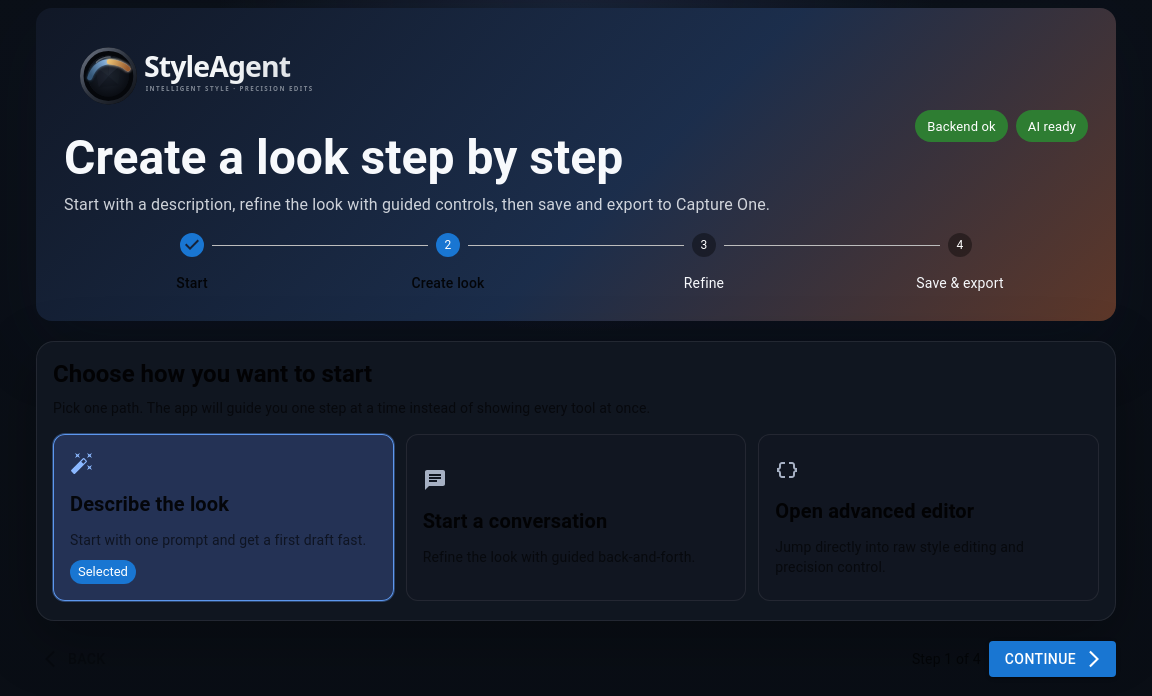
App integration › previews the exact AI prompt and selected examples
This screenshot has width=1152, height=696.
Click the button "Describe the look". click: {"x": 223, "y": 517}
box: [54, 435, 393, 600]
(page scrolled)
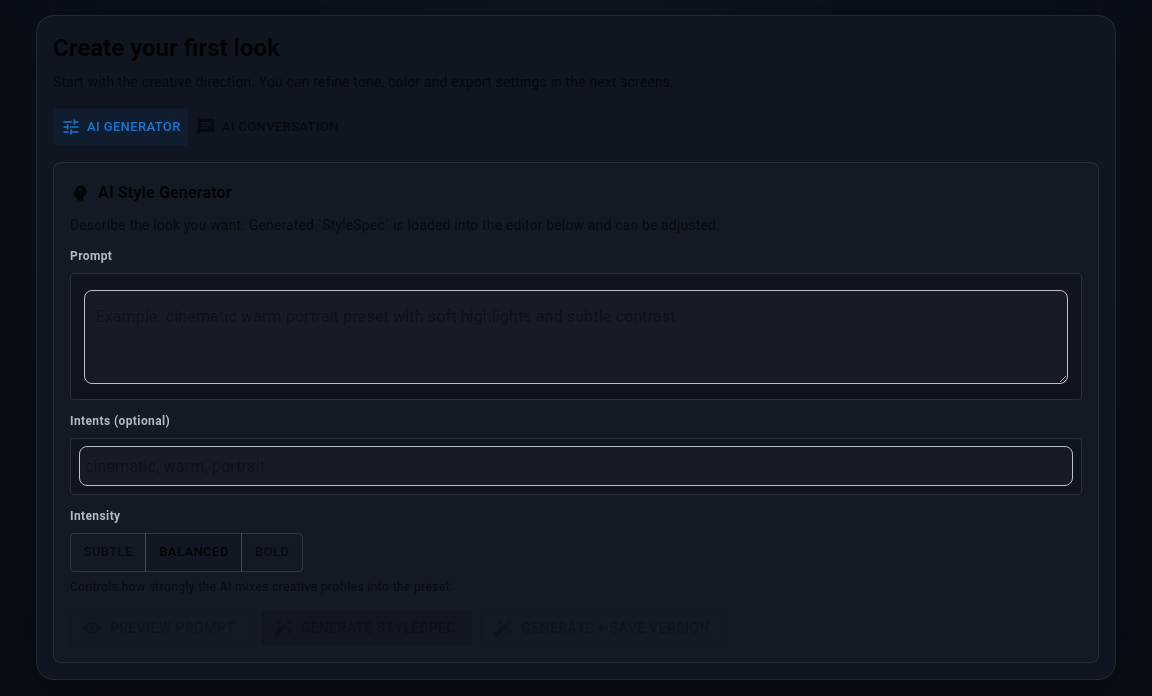
Type "tokyo night cinematic" into the text box named "Prompt". click: {"x": 576, "y": 337}
box: [84, 290, 1068, 384]
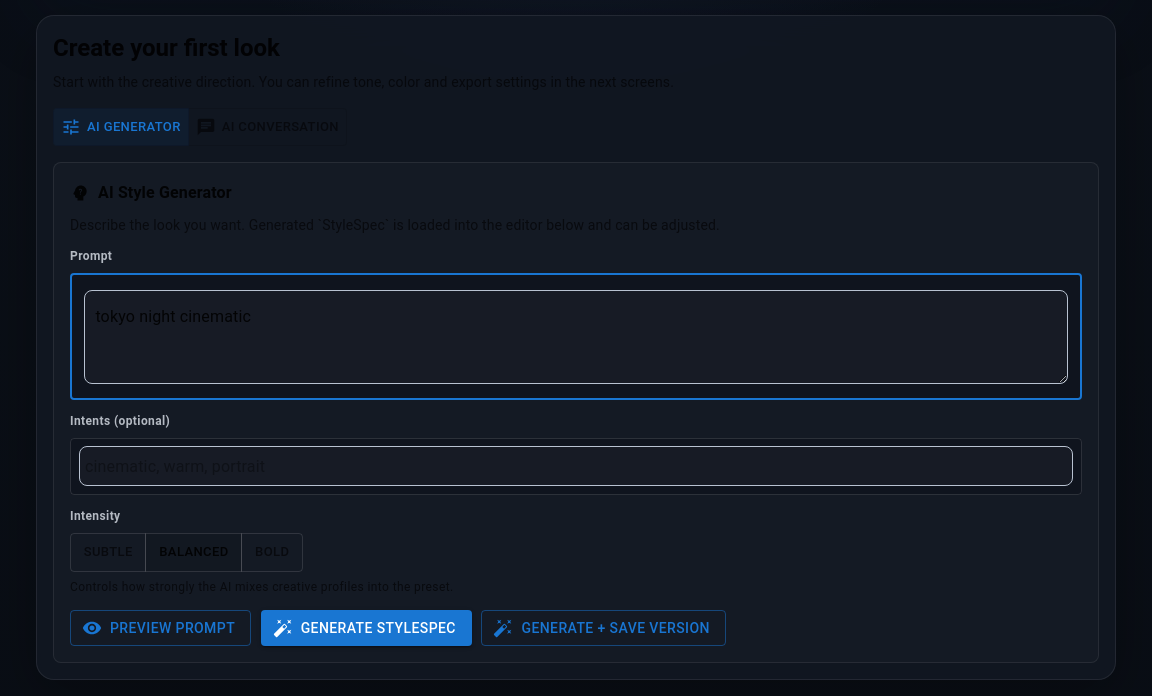
Click the button with aria-label "intensity-bold". click: {"x": 272, "y": 552}
box: [241, 533, 303, 572]
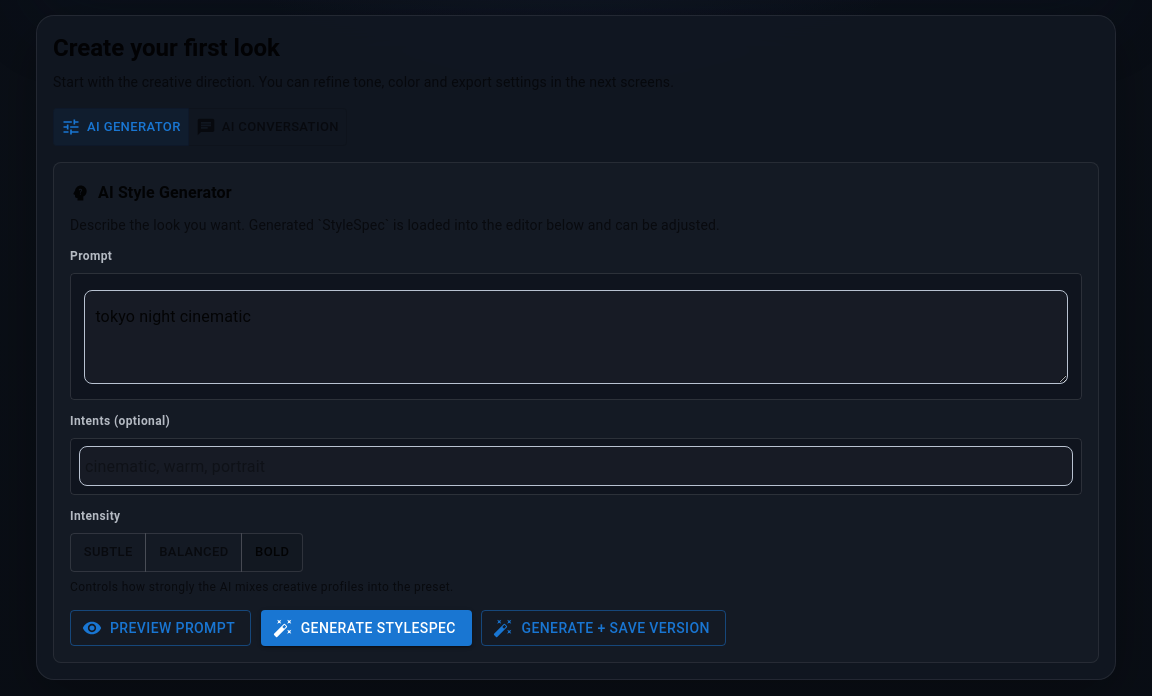
Click the button "Preview Prompt". click: {"x": 160, "y": 628}
box: [70, 610, 251, 646]
(page scrolled)
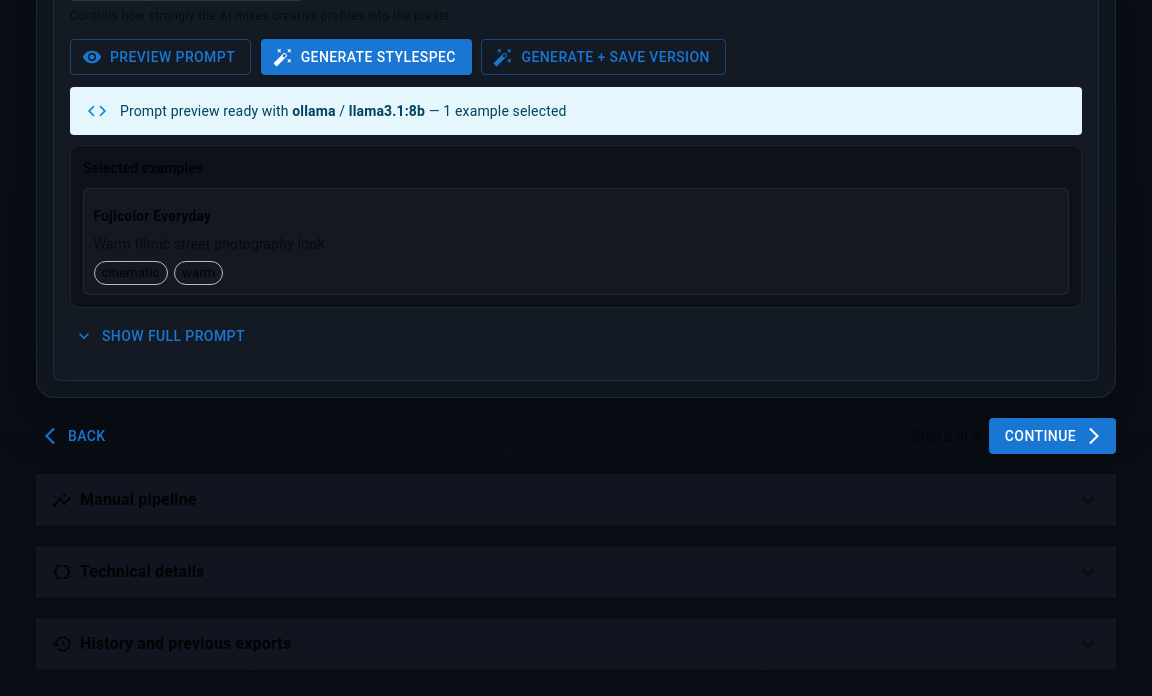
expect the text "Prompt preview ready with" is shown: met, box [120, 103, 292, 119]
expect the text "Fujicolor Everyday" is shown: met, box [94, 208, 211, 224]
Click the button "Show full prompt". click: {"x": 161, "y": 336}
box: [70, 318, 253, 354]
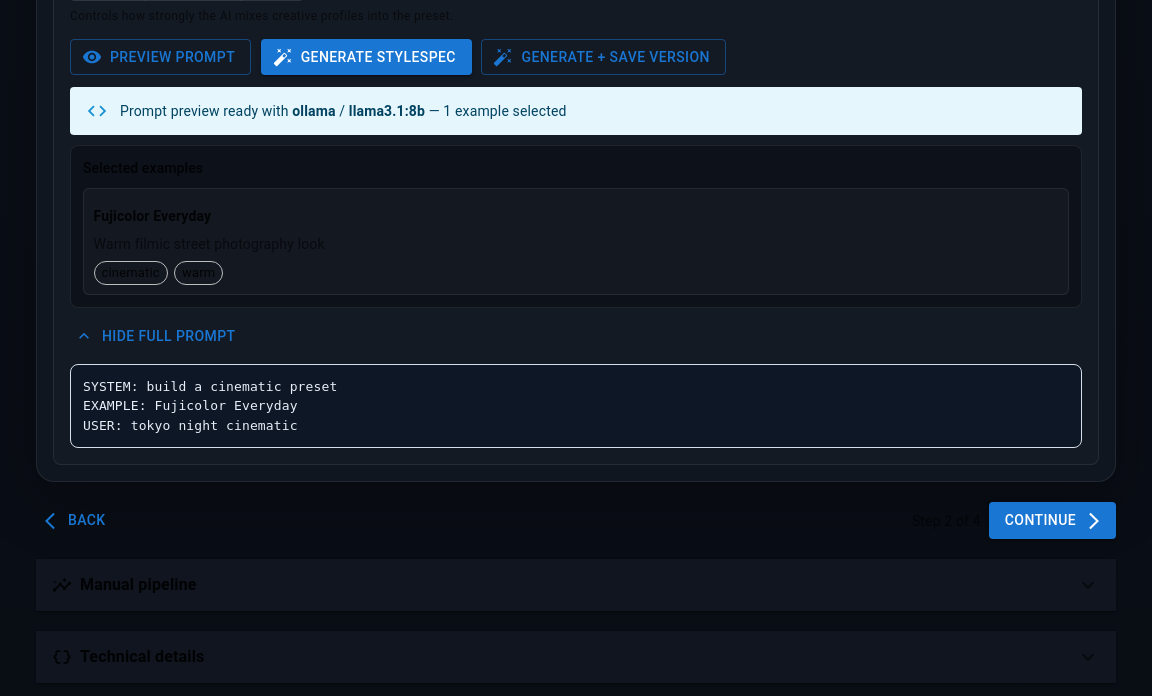
expect the text "SYSTEM: build a cinematic preset" is shown: met, box [83, 379, 337, 433]
